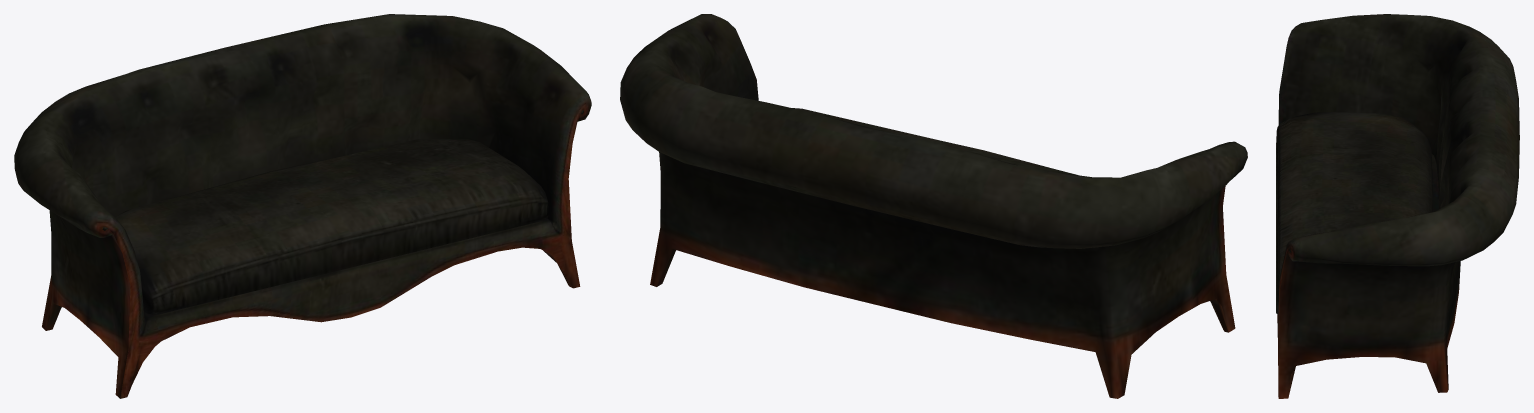
File: sofa_leather.glb
3 views of the same model, side by side, from view 1: azimuth 30°, elevation 25°; view 2: azimuth 150°, elevation 25°; view 3: azimuth 270°, elevation 25° (orthographic). The views are drawn at different scales.
Visible parts, largest first — view 1: sofa_02_Base; view 2: sofa_02_Base; view 3: sofa_02_Base.
Part boxes in pixels (left/top/right/bottom): sofa_02_Base: left=14, top=14, right=591, bottom=398; sofa_02_Base: left=620, top=14, right=1247, bottom=398; sofa_02_Base: left=1276, top=14, right=1519, bottom=398.
Size of the model in its own units: 1.81 by 0.7095 by 0.8153.
1 material, 1 textured.
